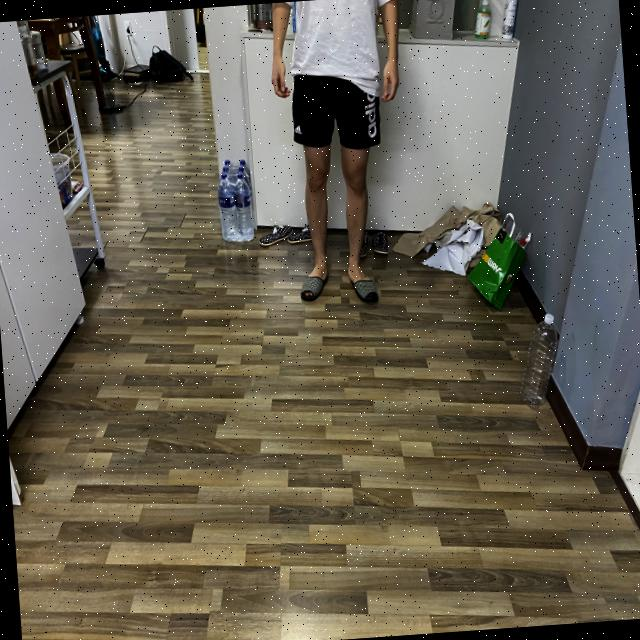no-boots: (342, 256, 388, 321), (291, 254, 337, 318)
